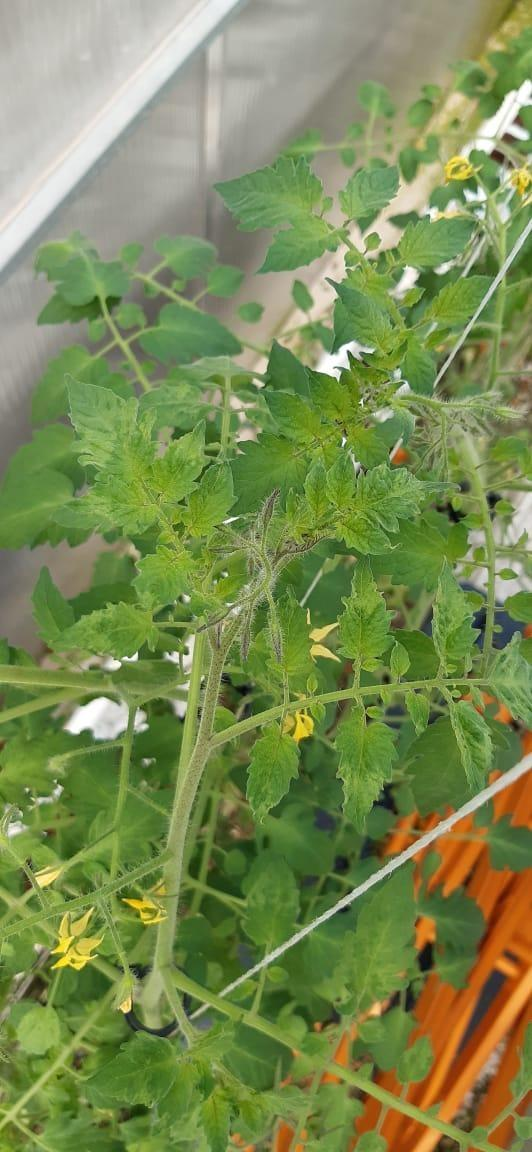Rugose Flower: (51, 910, 102, 969)
Rugose leaf: (216, 153, 328, 231), (69, 378, 153, 478), (333, 703, 396, 826), (340, 558, 394, 685), (87, 1035, 180, 1108), (56, 602, 157, 658), (246, 723, 300, 821), (79, 471, 159, 536), (144, 425, 203, 504), (356, 466, 425, 532), (432, 569, 474, 676), (133, 544, 195, 611), (178, 464, 234, 537), (422, 275, 489, 335), (398, 217, 473, 270), (487, 639, 531, 727), (450, 703, 492, 792), (266, 390, 328, 449), (335, 284, 392, 345), (262, 225, 335, 272), (339, 165, 398, 221), (143, 381, 210, 428), (272, 593, 309, 677), (309, 371, 359, 432), (326, 454, 361, 533), (338, 511, 389, 554), (347, 421, 386, 468), (401, 343, 435, 394)
Rugose stem: (187, 675, 496, 789), (141, 844, 292, 1050), (0, 865, 132, 977), (169, 648, 226, 874), (333, 1063, 456, 1141)
